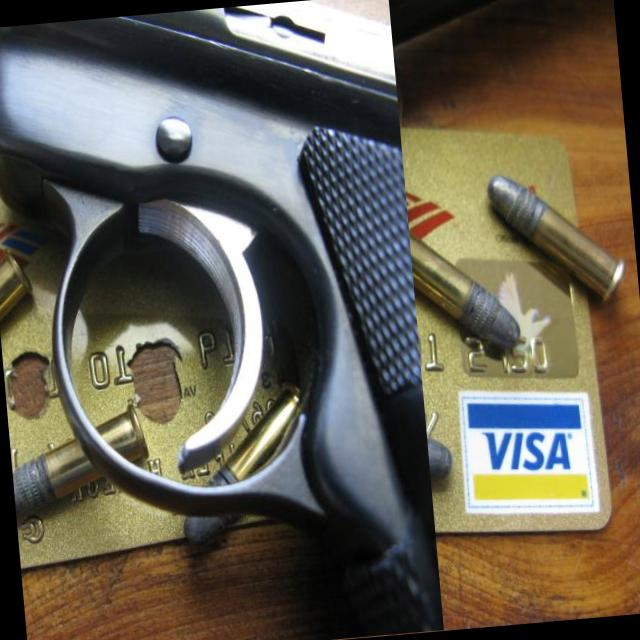Gun: (0, 1, 443, 636)
